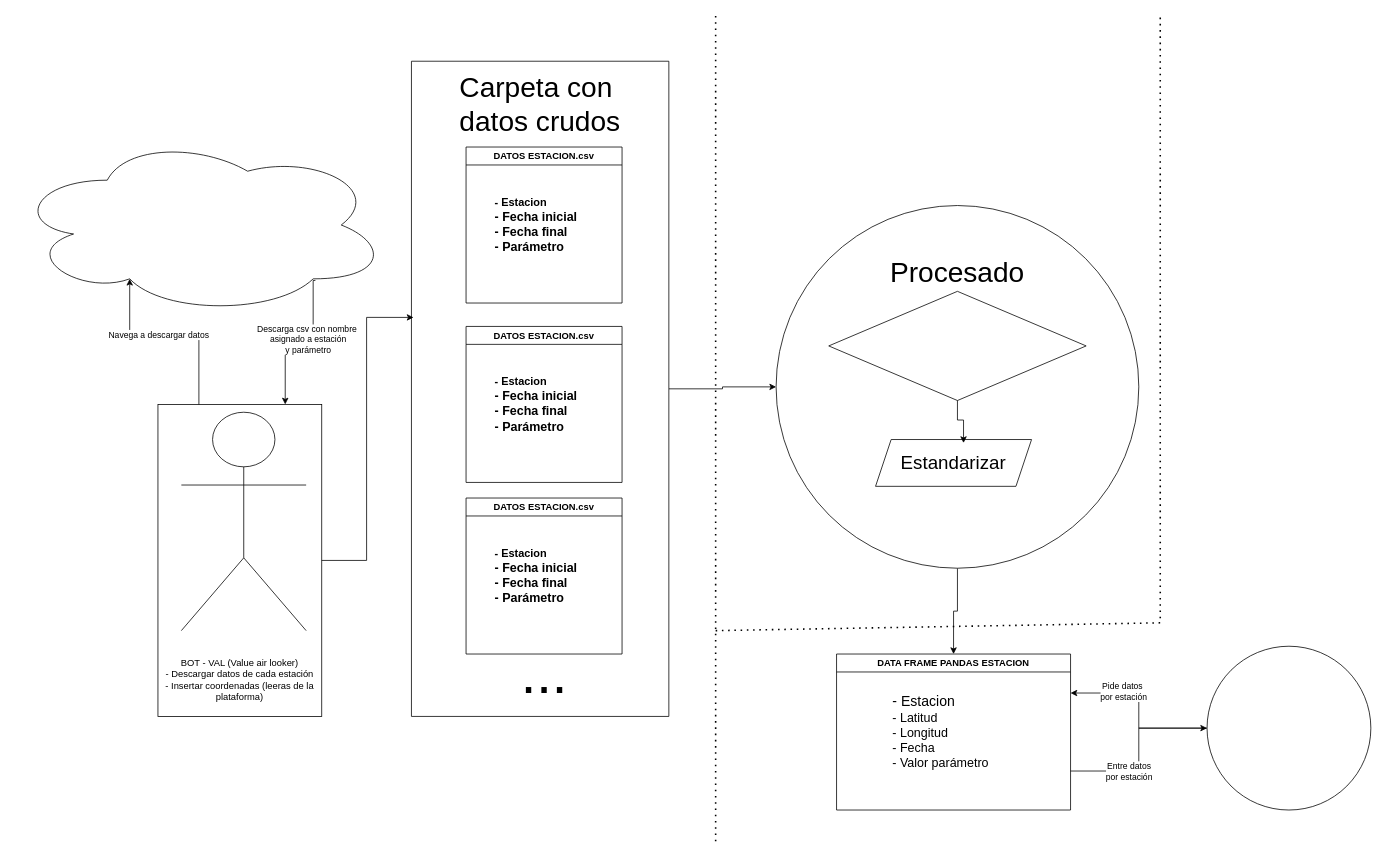
This 1385x856 diagram has some shape labels left out. Here are the shapes that lost their labels. From the top down, the centre of each, then its label:
point (200, 225): SISAIRE
point (957, 346): Detectar Estación Detectar columna de fechas Detectar parámetro
point (1288, 727): Generación de gráficos
